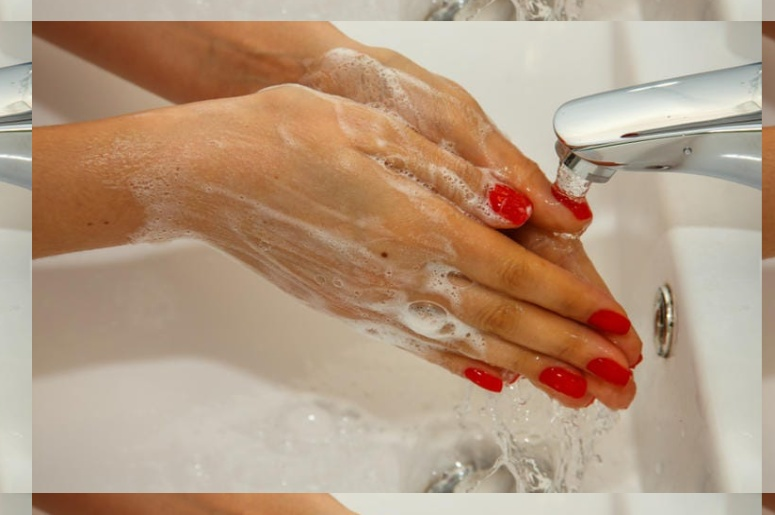washing hand: (169, 58, 710, 434)
